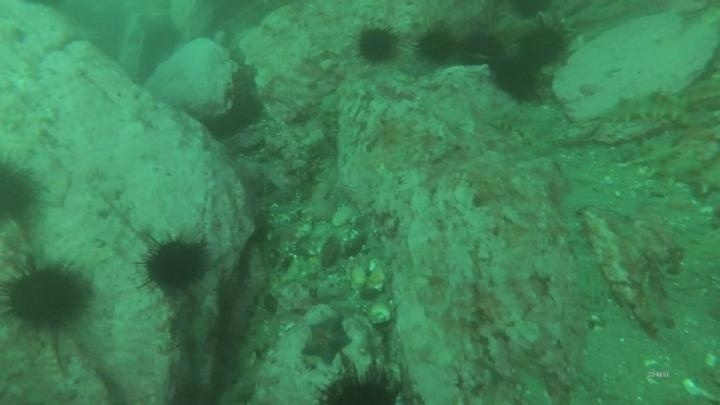echinus: (2, 259, 91, 334), (139, 232, 211, 296), (314, 360, 417, 404), (0, 154, 42, 224), (517, 22, 572, 68), (489, 54, 541, 101), (415, 25, 460, 66), (355, 25, 399, 65), (460, 30, 506, 66), (507, 0, 554, 21)
holothurian: (629, 135, 719, 198), (593, 88, 702, 131), (480, 104, 561, 151)
starfish: (299, 315, 352, 366), (395, 56, 432, 80)
